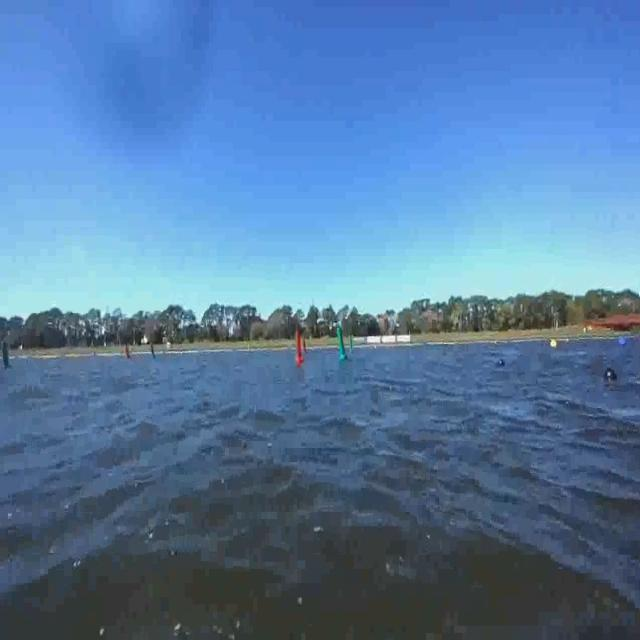black-buoy: (606, 369, 618, 383), (496, 358, 506, 368)
blue-buoy: (619, 336, 629, 350)
green-column-buoy: (338, 328, 350, 362), (0, 339, 12, 370), (150, 341, 156, 361)
red-column-buoy: (294, 332, 304, 364), (125, 341, 134, 362)
yellow-buoy: (551, 338, 560, 352)
